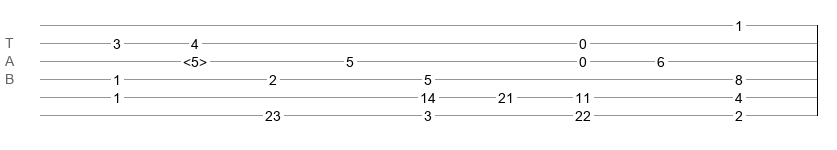0: (579, 36, 587, 46), (579, 54, 587, 64)
1: (113, 72, 121, 82), (113, 90, 121, 100), (735, 18, 743, 28)
11: (575, 90, 591, 100)
14: (420, 90, 436, 100)
2: (269, 72, 277, 82), (735, 108, 743, 118)
21: (498, 90, 514, 100)
22: (575, 108, 591, 118)
23: (265, 108, 281, 118)
3: (113, 36, 121, 46), (424, 108, 432, 118)
4: (191, 36, 199, 46), (735, 90, 743, 100)
5: (346, 54, 354, 64), (424, 72, 432, 82)
6: (657, 54, 665, 64)
8: (735, 72, 743, 82)
harmonic: (183, 54, 207, 64)
